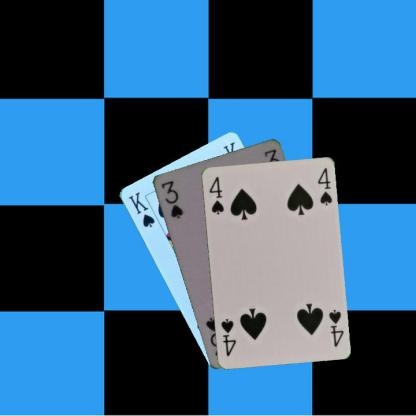3s: (158, 178, 184, 220)
4s: (326, 306, 345, 348), (206, 173, 224, 216)
Ks: (125, 189, 156, 229)
